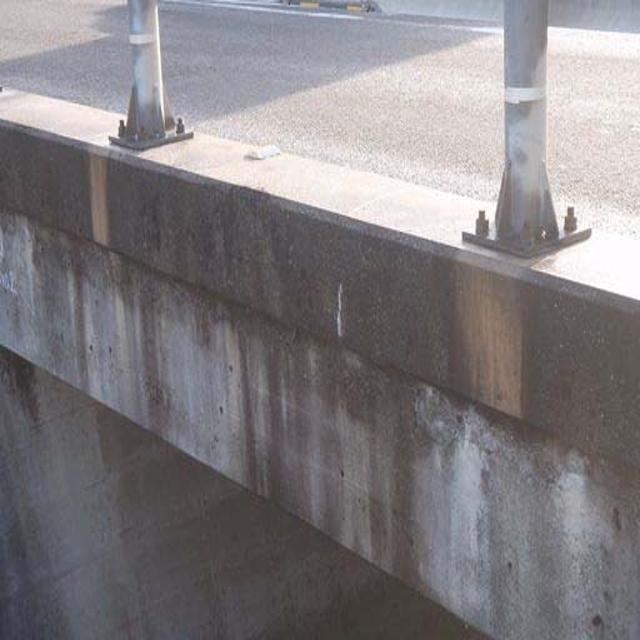freelime: (431, 424, 486, 603), (562, 457, 598, 583)
